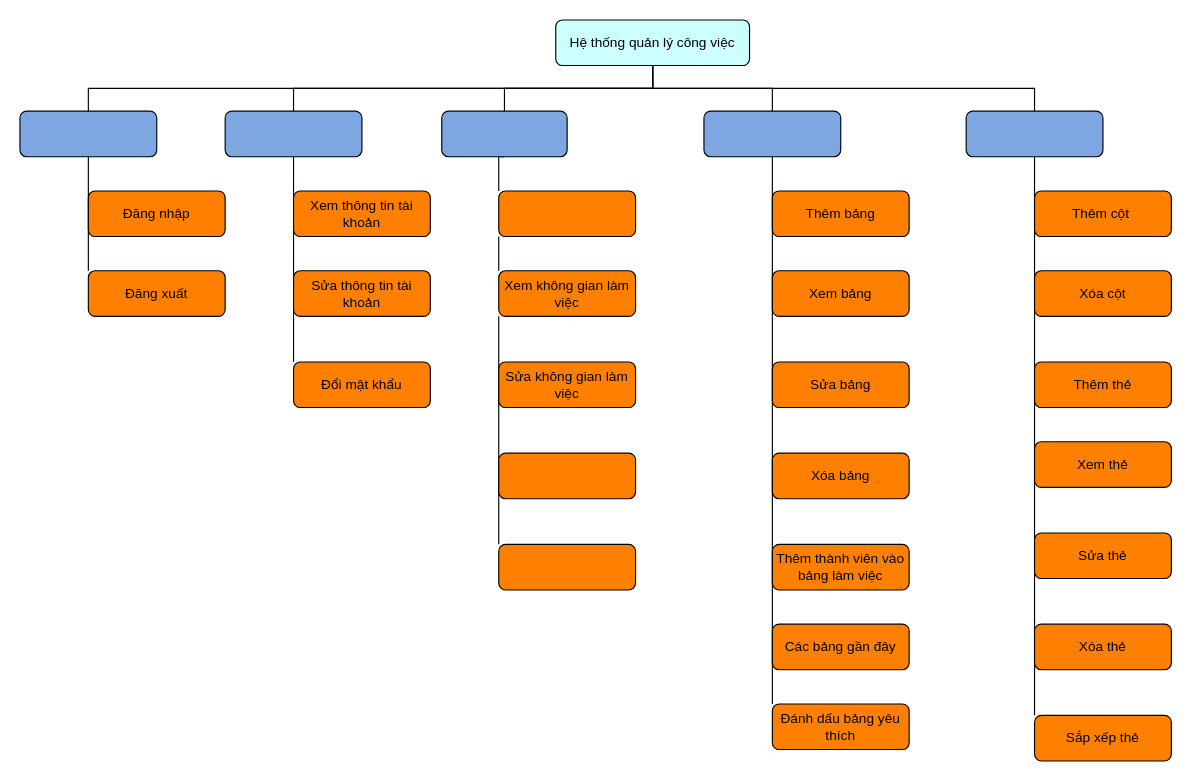
This 1191x781 diagram has some shape labels left out. The shapes that lost their labels are listed below. From the top down, each one's box as (x1, y1, x2, y2) in pixels, then its label:
(19, 110, 157, 157): Quản lý đăng nhập
(224, 110, 362, 157): Quản lý tài khoản cá nhân
(441, 110, 567, 157): Quản lý không gian làm việc
(703, 110, 841, 157): Quản lý bảng công việc
(965, 110, 1103, 157): Quản lý thẻ công việc
(498, 190, 636, 237): Thêm không gian làm việc
(498, 452, 636, 499): Xóa không gian làm việc
(498, 543, 636, 590): Thêm thành viên vào không gian làm việc
